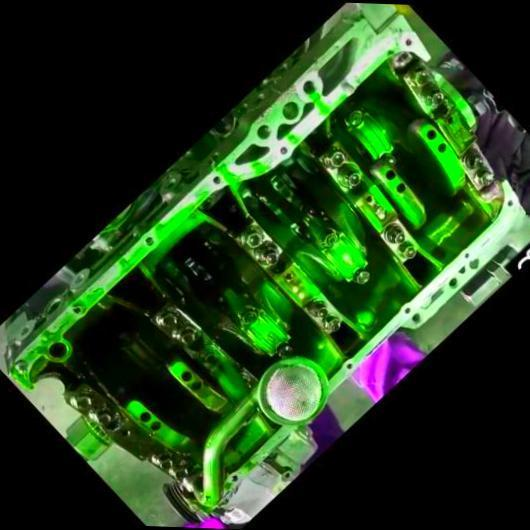hole: (294, 78, 318, 100), (251, 122, 273, 144), (140, 236, 154, 250), (208, 175, 221, 188), (275, 146, 287, 158), (226, 474, 238, 486), (401, 38, 412, 49), (400, 306, 411, 317), (458, 252, 470, 262), (342, 361, 352, 371), (504, 199, 514, 208)
